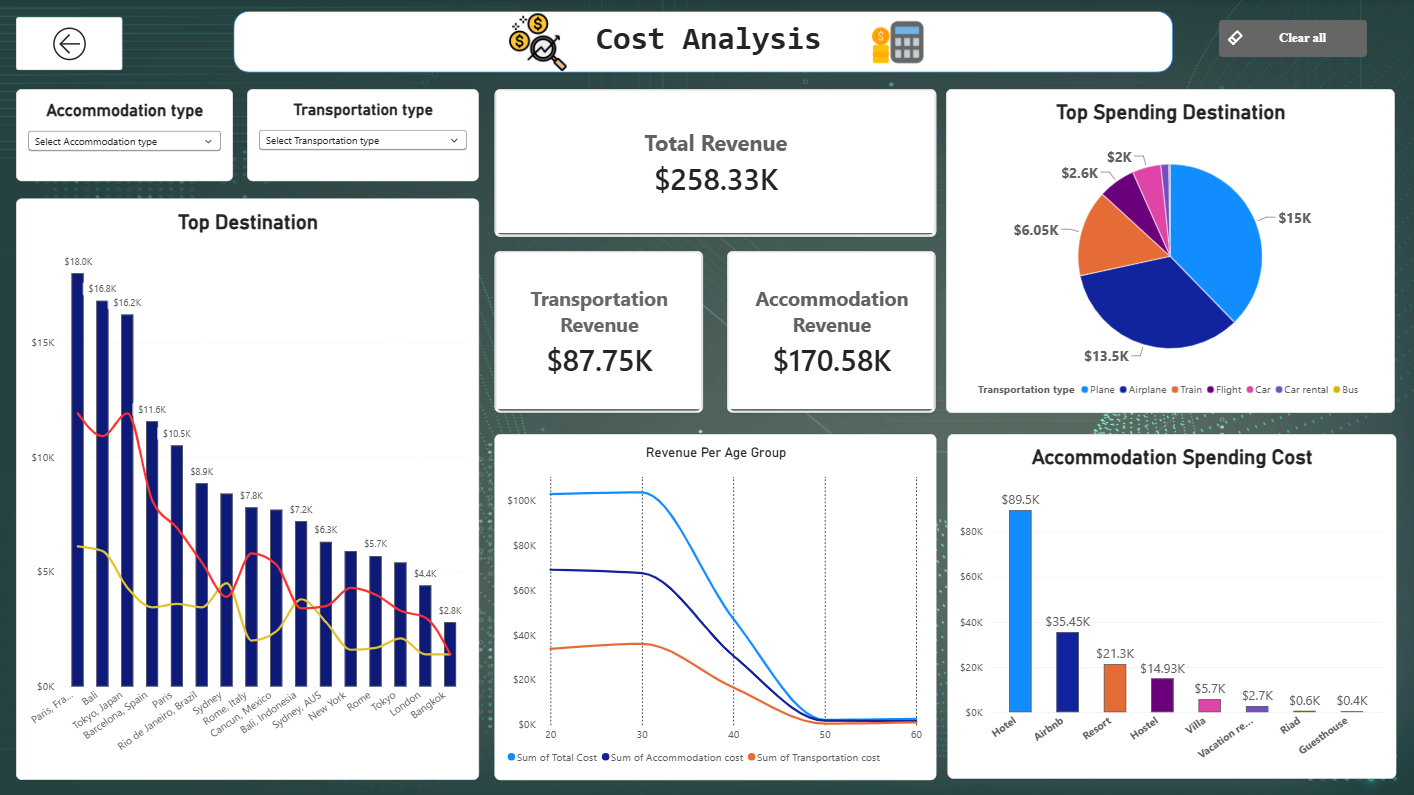

The dashboard page shown, as its layout file describes it:
{"tool":"powerbi","page":{"name":"Page 4","canvas":[1920,1080],"ordinal":3},"visuals":[{"type":"lineStackedColumnComboChart","title":"Top Destination ","fields":{"Category":["Travel details dataset.Destination"],"Y":["Sum(Travel details dataset.Total Cost)"],"Y2":["Sum(Travel details dataset.Transportation cost)","Sum(Travel details dataset.Accommodation cost)"]},"box":[24.1,269.3,626.1,786],"z":0},{"type":"pieChart","title":"Top Spending Destination","fields":{"Category":["Travel details dataset.Transportation type"],"Y":["Sum(Travel details dataset.Transportation cost)"]},"box":[1282.2,122.2,606.7,437.8],"z":1000},{"type":"listSlicer","fields":{"Values":["Travel details dataset.Accommodation type"]},"box":[44.4,122.2,273.3,124.4],"z":2000},{"type":"columnChart","title":"Accommodation Spending Cost","fields":{"Category":["Travel details dataset.Accommodation type"],"Series":["Travel details dataset.Accommodation type"],"Y":["Sum(Travel details dataset.Accommodation cost)"]},"box":[1282.9,588.9,606.4,466.3],"z":3000},{"type":"listSlicer","fields":{"Values":["Travel details dataset.Transportation type"]},"box":[337.1,122.6,313.1,124.8],"z":4000},{"type":"shape","box":[317.4,15.3,1269.8,83.2],"z":5000},{"type":"textbox","box":[584.5,28.5,753.1,59.1],"z":6000},{"type":"cardVisual","title":"Total Sales","fields":{"Data":["Sum(Travel details dataset.Total Cost)"]},"box":[670.3,122.3,597.4,199.9],"z":7000},{"type":"actionButton","box":[1650.7,28.5,200,50],"z":8000},{"type":"cardVisual","fields":{"Data":["Sum(Travel details dataset.Accommodation cost)"]},"box":[985.5,341,282.2,218.7],"z":9000},{"type":"cardVisual","fields":{"Data":["Sum(Travel details dataset.Transportation cost)"]},"box":[670.3,341,282.2,218.7],"z":10000},{"type":"lineChart","title":"Revenue Per Age Group","fields":{"Category":["Travel details dataset.Traveler age (bins)"],"Y":["Sum(Travel details dataset.Total Cost)","Sum(Travel details dataset.Accommodation cost)","Sum(Travel details dataset.Transportation cost)"]},"box":[670.3,588,597.4,468],"z":11000},{"type":"image","box":[669.3,17.8,121.4,80],"z":12000},{"type":"image","box":[1166.8,17.8,100.7,80],"z":13000}]}

Visuals, with their boxes in screenshot pixels (x1, y1, x2, y2), scaled from the page's 1920x1080 canvas onto the 1414x795 screenshot:
"Top Destination " lineStackedColumnComboChart: bbox(18, 198, 479, 777)
"Top Spending Destination" pieChart: bbox(944, 90, 1391, 412)
listSlicer - Travel details dataset.Accommodation type: bbox(33, 90, 234, 182)
"Accommodation Spending Cost" columnChart: bbox(945, 433, 1391, 777)
listSlicer - Travel details dataset.Transportation type: bbox(248, 90, 479, 182)
shape: bbox(234, 11, 1169, 73)
textbox: bbox(430, 21, 985, 64)
"Total Sales" cardVisual: bbox(494, 90, 934, 237)
actionButton: bbox(1216, 21, 1363, 58)
cardVisual - Sum(Travel details dataset.Accommodation cost): bbox(726, 251, 934, 412)
cardVisual - Sum(Travel details dataset.Transportation cost): bbox(494, 251, 701, 412)
"Revenue Per Age Group" lineChart: bbox(494, 433, 934, 777)
image: bbox(493, 13, 582, 72)
image: bbox(859, 13, 933, 72)
